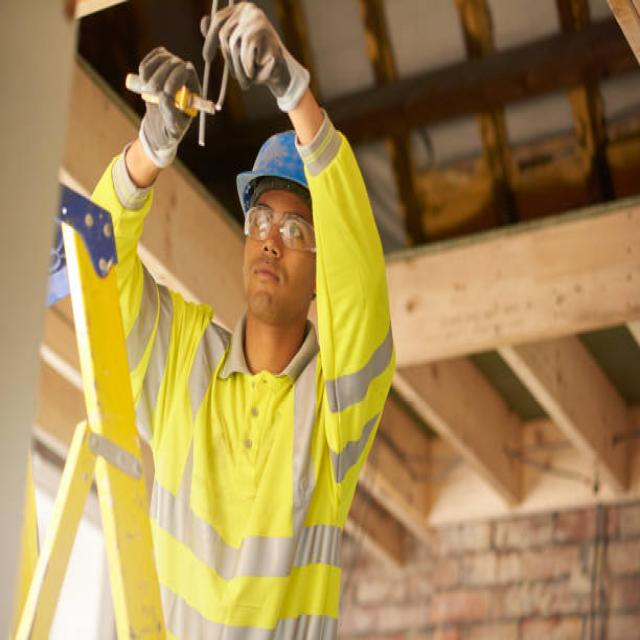gloves: (197, 0, 311, 111), (135, 47, 203, 168)
